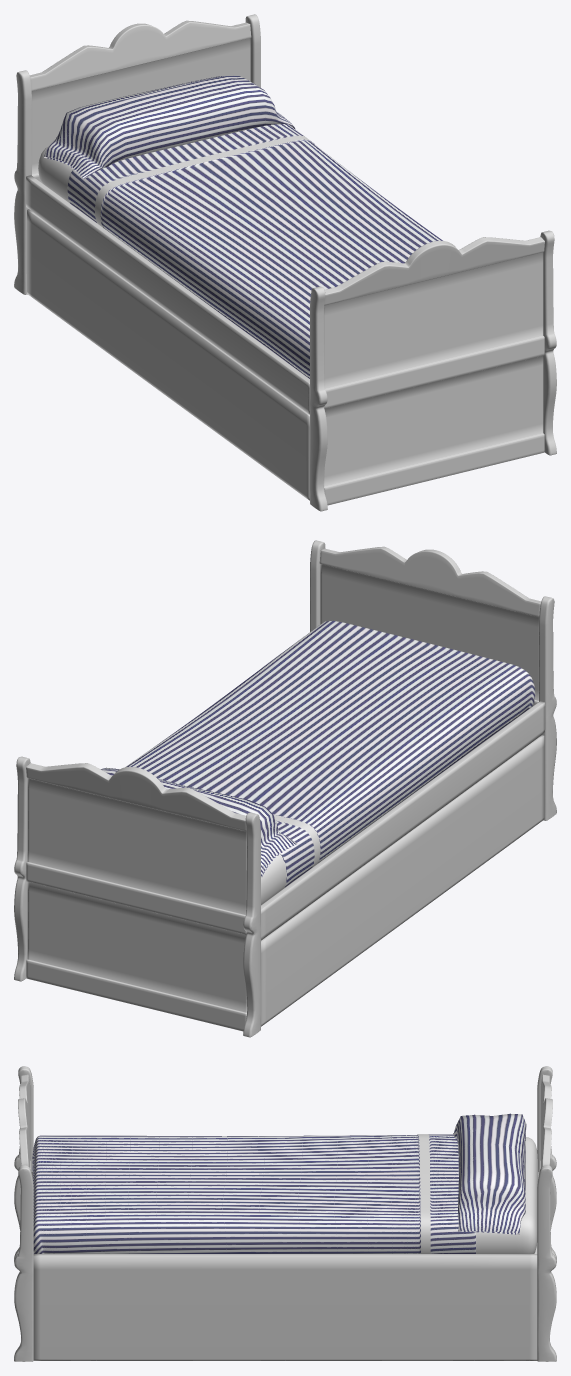
Rendered from sh_scopia_children_bed.glb.
3 views of the same model, one above another, from view 1: azimuth 30°, elevation 25°; view 2: azimuth 150°, elevation 25°; view 3: azimuth 270°, elevation 25° (orthographic). The views are drawn at different scales.
Bounding box in the file's own units: 0.918 × 0.874 × 2.05.
4 materials, 2 textured.
